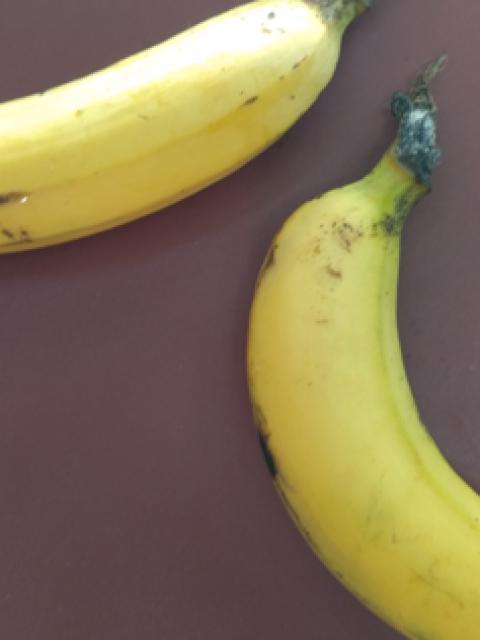freshripe: (238, 186, 479, 639), (0, 7, 384, 257)
